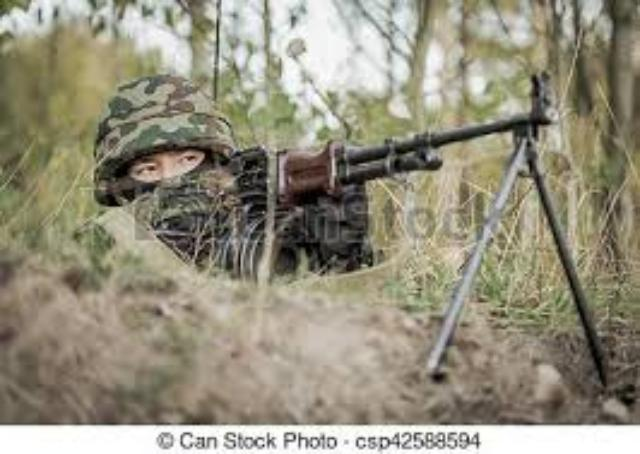other: (87, 74, 266, 228)
